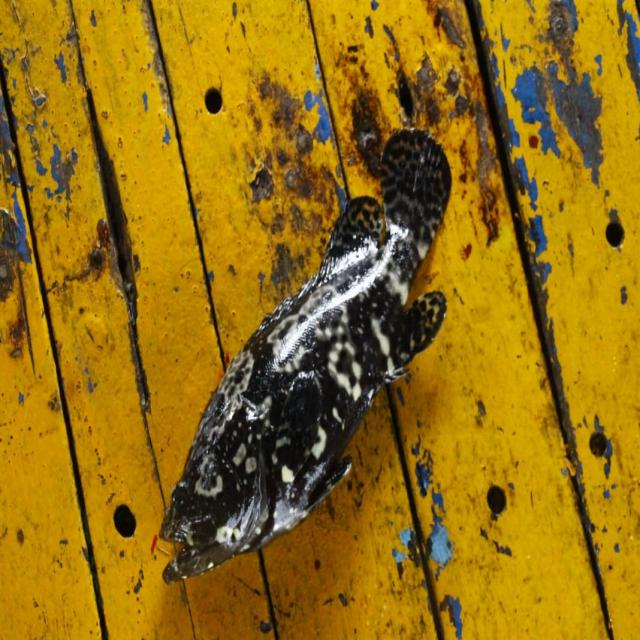ikan: (149, 108, 463, 602)
